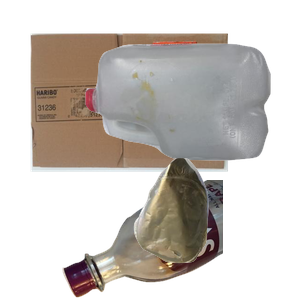cardboard: (28, 31, 249, 195)
glass: (60, 180, 300, 300)
plastic: (83, 41, 300, 194)
trash: (131, 155, 300, 300)
